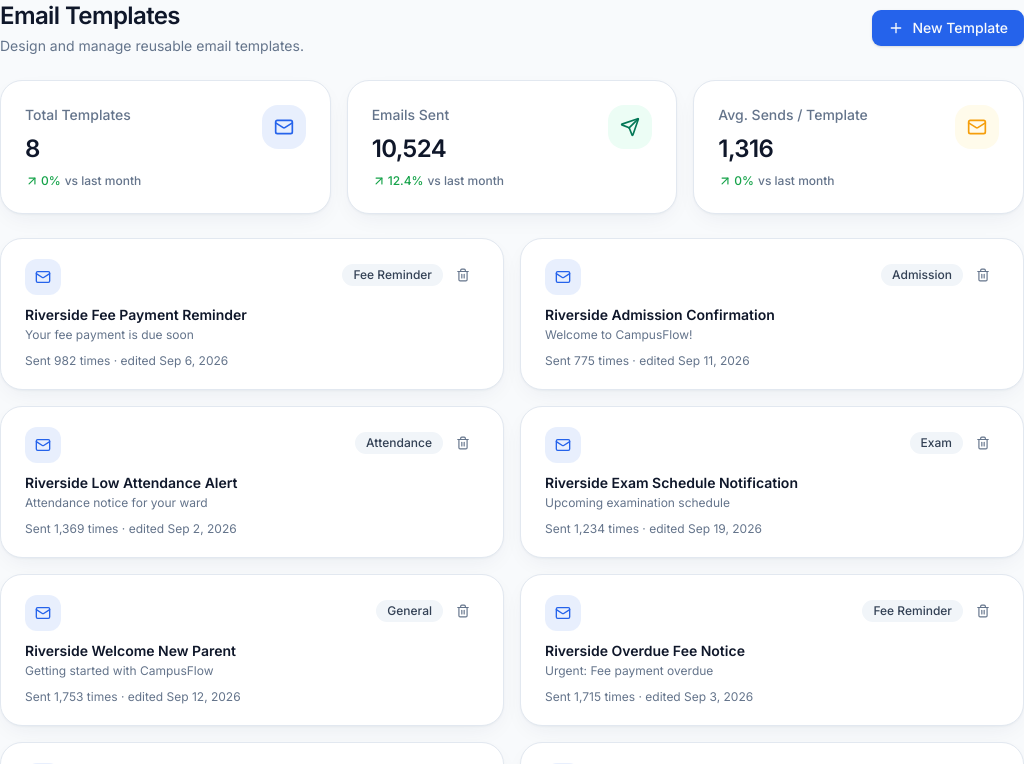
Test case: EmailTemplatesPage › deletes a template from the list after confirming, without opening the preview dialog
Click the 2nd button at [463, 275], box top-left (447, 259), bottom-right (479, 291)
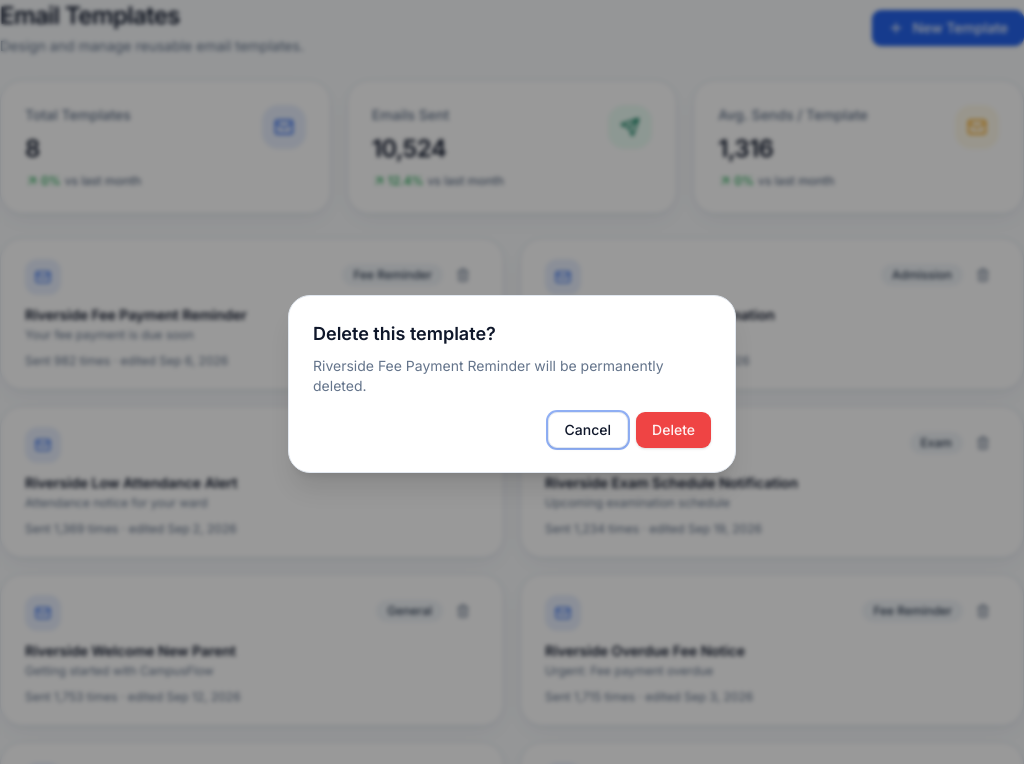
Click the button "Delete" at [674, 430], box top-left (636, 412), bottom-right (711, 448)
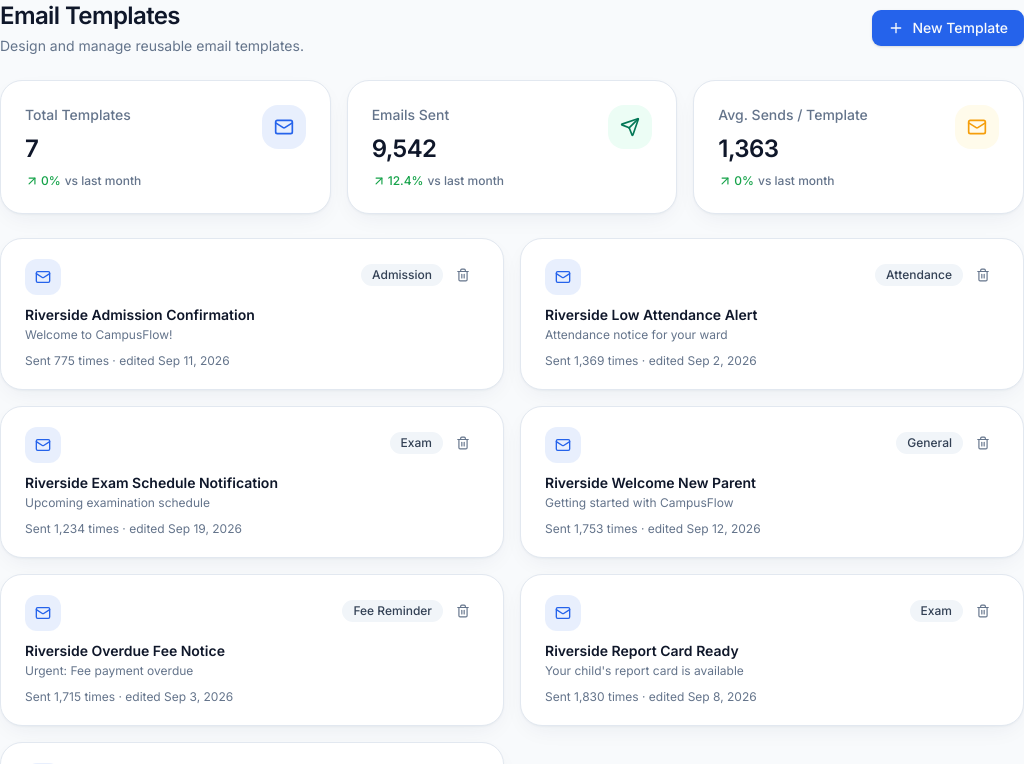
Check: the dialog is gone
